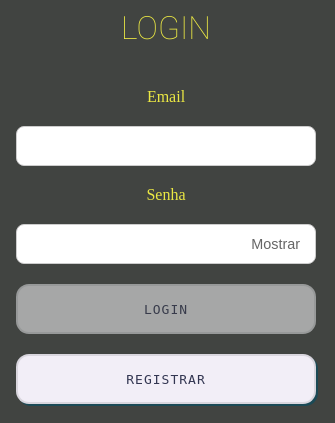
Login Component › Login button should be enabled when form is valid
Type "test@example.com" into the field labelled "Email".
click(166, 146); type("test@example.com")  # box [16, 126, 316, 166]
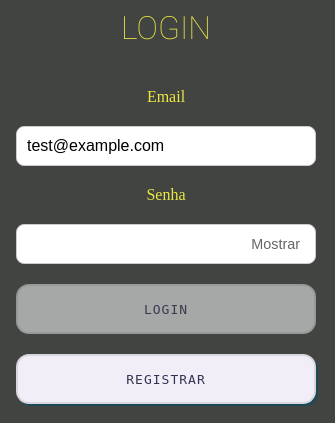
Type "password123" into the password field labelled "Senha".
click(166, 244); type("password123")  # box [16, 224, 316, 264]
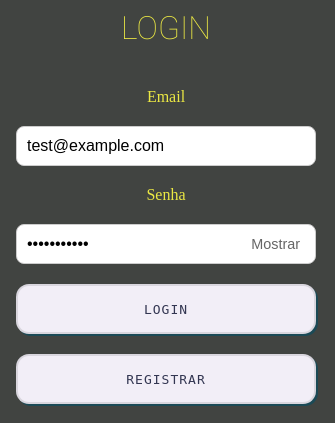
Check: the button "Login" is enabled, box [16, 284, 316, 334]
